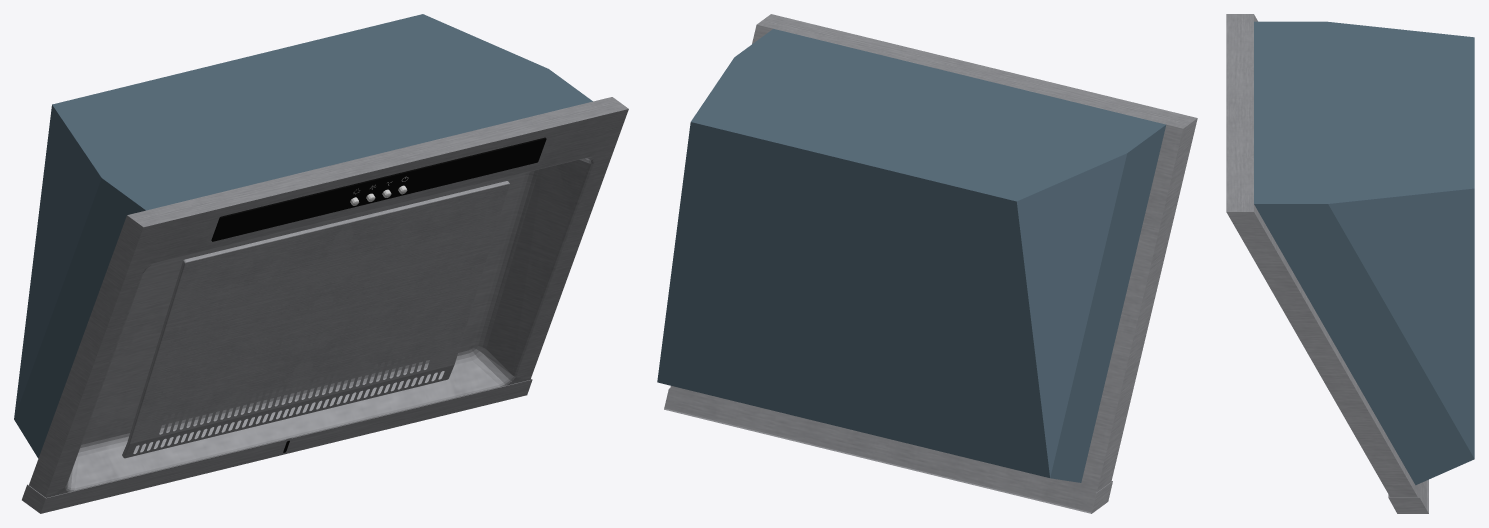
File: rangeHood.obj
3 renders of one model, left to right at view 1: azimuth 30°, elevation 25°; view 2: azimuth 150°, elevation 25°; view 3: azimuth 270°, elevation 25°, orthographic. The views are drawn at different scales.
Parts seen in each view (by area): view 1: 002_Plane.000, 001_Plane.002, 003_Plane.003, 005_Plane.004, 004_Plane.001; view 2: 002_Plane.000, 001_Plane.002, 005_Plane.004; view 3: 002_Plane.000, 001_Plane.002, 005_Plane.004.
Part boxes in pixels (bbox=[...]): 002_Plane.000: bbox=[14, 14, 592, 458]; 001_Plane.002: bbox=[29, 97, 628, 497]; 003_Plane.003: bbox=[122, 181, 509, 458]; 005_Plane.004: bbox=[22, 379, 532, 513]; 004_Plane.001: bbox=[211, 137, 546, 241]; 002_Plane.000: bbox=[657, 29, 1165, 482]; 001_Plane.002: bbox=[665, 14, 1197, 512]; 005_Plane.004: bbox=[664, 388, 1112, 513]; 002_Plane.000: bbox=[1254, 21, 1474, 485]; 001_Plane.002: bbox=[1226, 14, 1426, 509]; 005_Plane.004: bbox=[1388, 479, 1428, 513].
Size of the model in its own units: 60 by 42.58 by 31.77.
